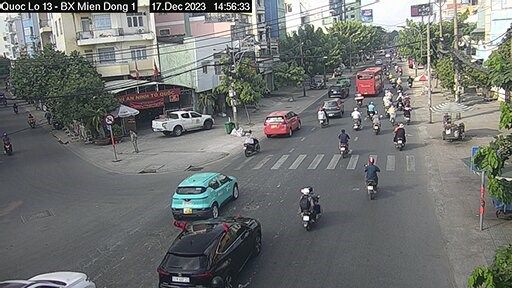car: (156, 215, 273, 281), (161, 167, 254, 215), (154, 107, 221, 136), (261, 111, 303, 144), (354, 70, 388, 97), (323, 95, 347, 119), (328, 80, 348, 100)
motorbike: (292, 182, 326, 234), (361, 158, 381, 199), (333, 126, 350, 153)
